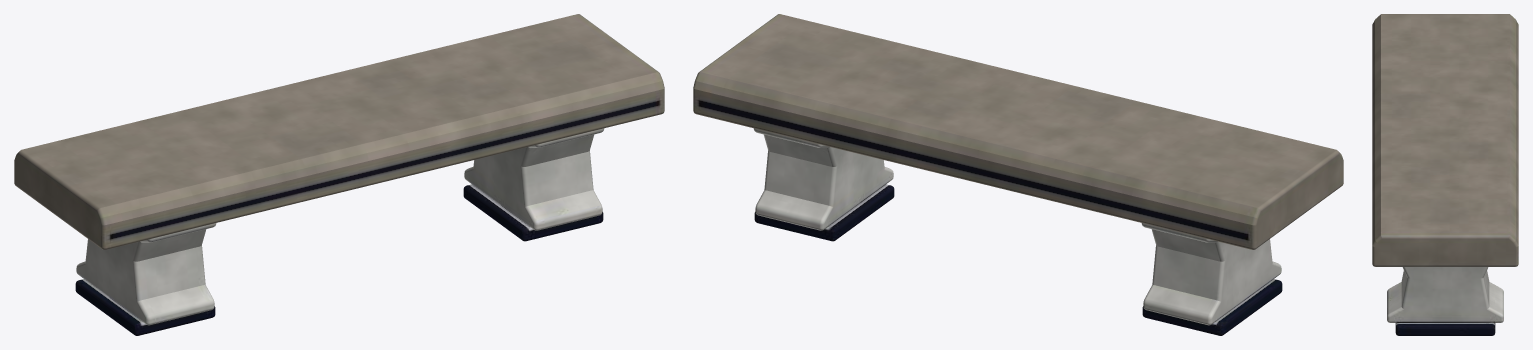
The model's file is stone_bench.glb.
The picture shows the model from 3 angles, left to right: view 1: azimuth 30°, elevation 25°; view 2: azimuth 150°, elevation 25°; view 3: azimuth 270°, elevation 25°; orthographic projection. The views are drawn at different scales.
Visible parts, largest first — view 1: stone_bench; view 2: stone_bench; view 3: stone_bench.
Part boxes in pixels (bbox=[...]): stone_bench: bbox=[14, 14, 664, 335]; stone_bench: bbox=[693, 14, 1343, 335]; stone_bench: bbox=[1372, 14, 1518, 335].
Bounding box in the file's own units: 1.8 × 0.45 × 0.5.
Materials: 1 (1 with a texture image).
